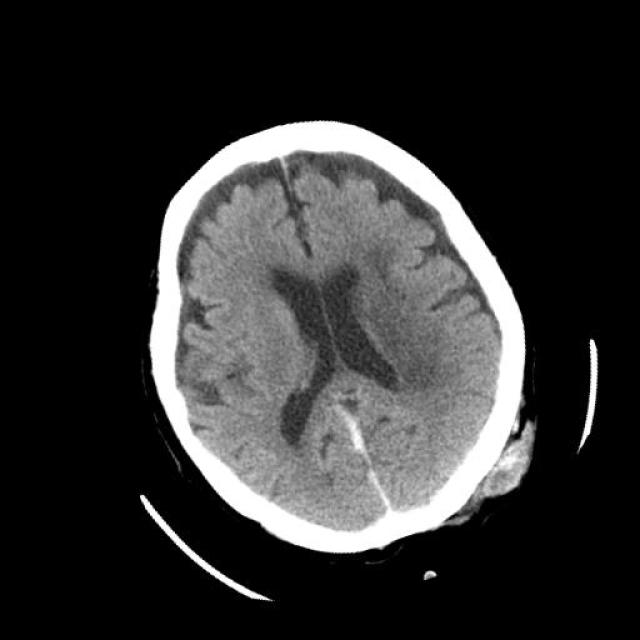Subdural: (318, 392, 420, 542)
